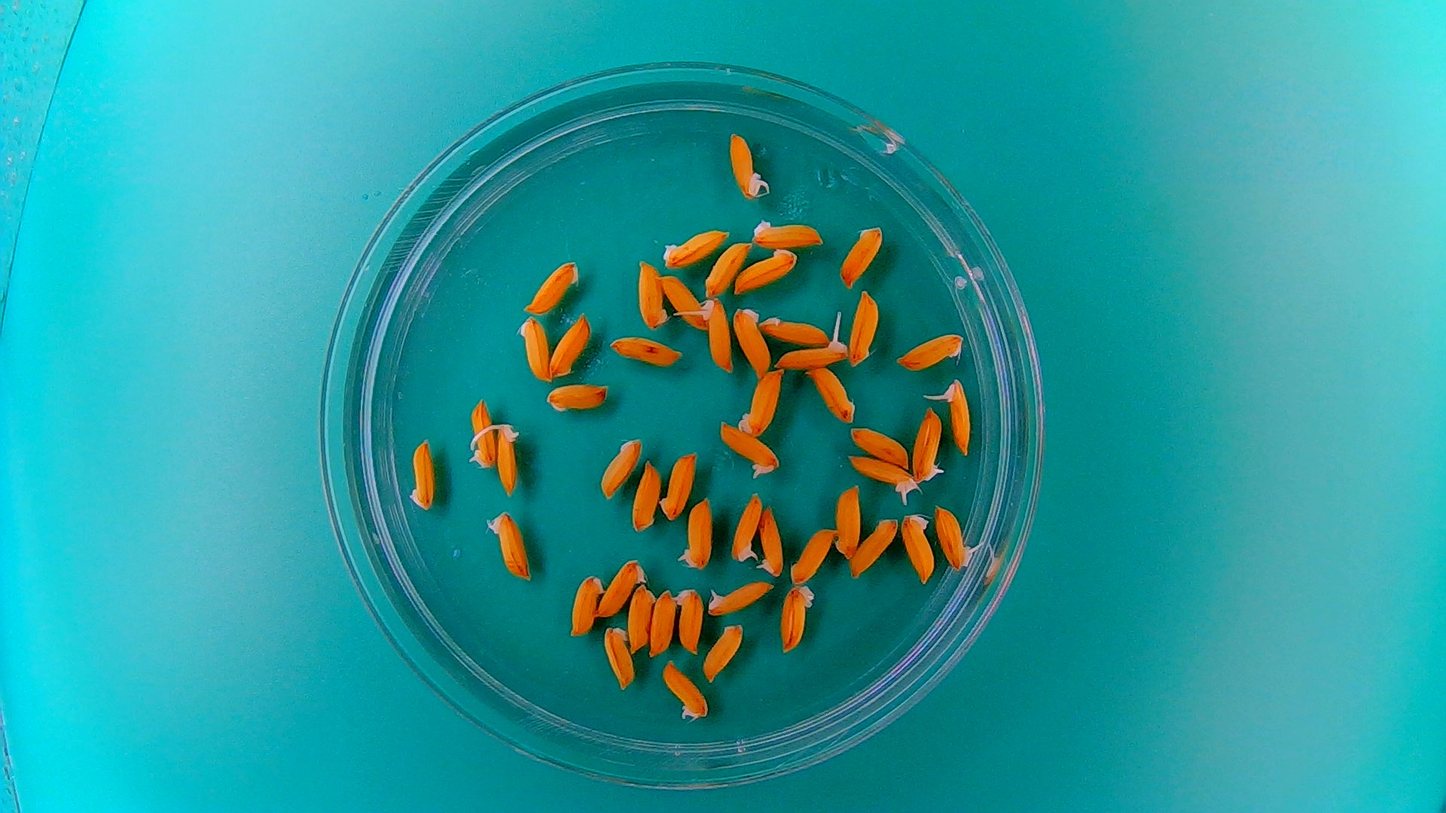no: (521, 257, 582, 315), (731, 244, 801, 294), (849, 513, 901, 578), (658, 224, 731, 269), (546, 309, 592, 379), (596, 554, 647, 617), (657, 446, 699, 522), (893, 329, 966, 372), (597, 434, 643, 501), (775, 580, 816, 654), (731, 303, 771, 378), (837, 224, 883, 288), (703, 239, 752, 299), (807, 364, 856, 423), (702, 620, 747, 684), (898, 508, 936, 583), (847, 423, 911, 467), (607, 332, 685, 368), (787, 528, 835, 585), (749, 213, 827, 248), (629, 454, 663, 534), (659, 271, 705, 330), (567, 570, 606, 639), (756, 311, 832, 346), (847, 287, 880, 367), (634, 257, 670, 330), (515, 313, 551, 385), (542, 379, 612, 416), (600, 621, 635, 692), (405, 435, 436, 513), (833, 482, 862, 561), (626, 581, 657, 654), (647, 585, 677, 659), (675, 583, 704, 654)
yes: (716, 419, 782, 479), (482, 506, 532, 583), (846, 452, 917, 501), (738, 365, 786, 437), (659, 657, 709, 722), (773, 327, 850, 369), (934, 501, 980, 571), (726, 129, 770, 202), (935, 376, 974, 457), (676, 493, 715, 572), (698, 294, 734, 375), (911, 402, 947, 483), (705, 577, 776, 617), (728, 489, 764, 565), (493, 419, 522, 498), (755, 502, 785, 578), (467, 396, 494, 470)
